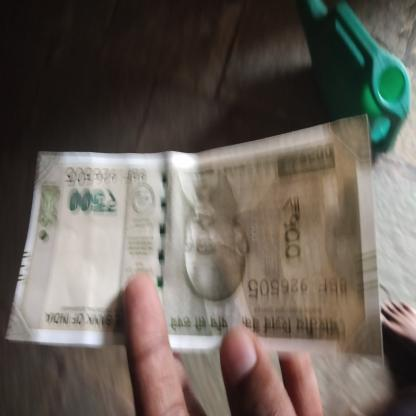New500Front: (28, 147, 370, 341)
